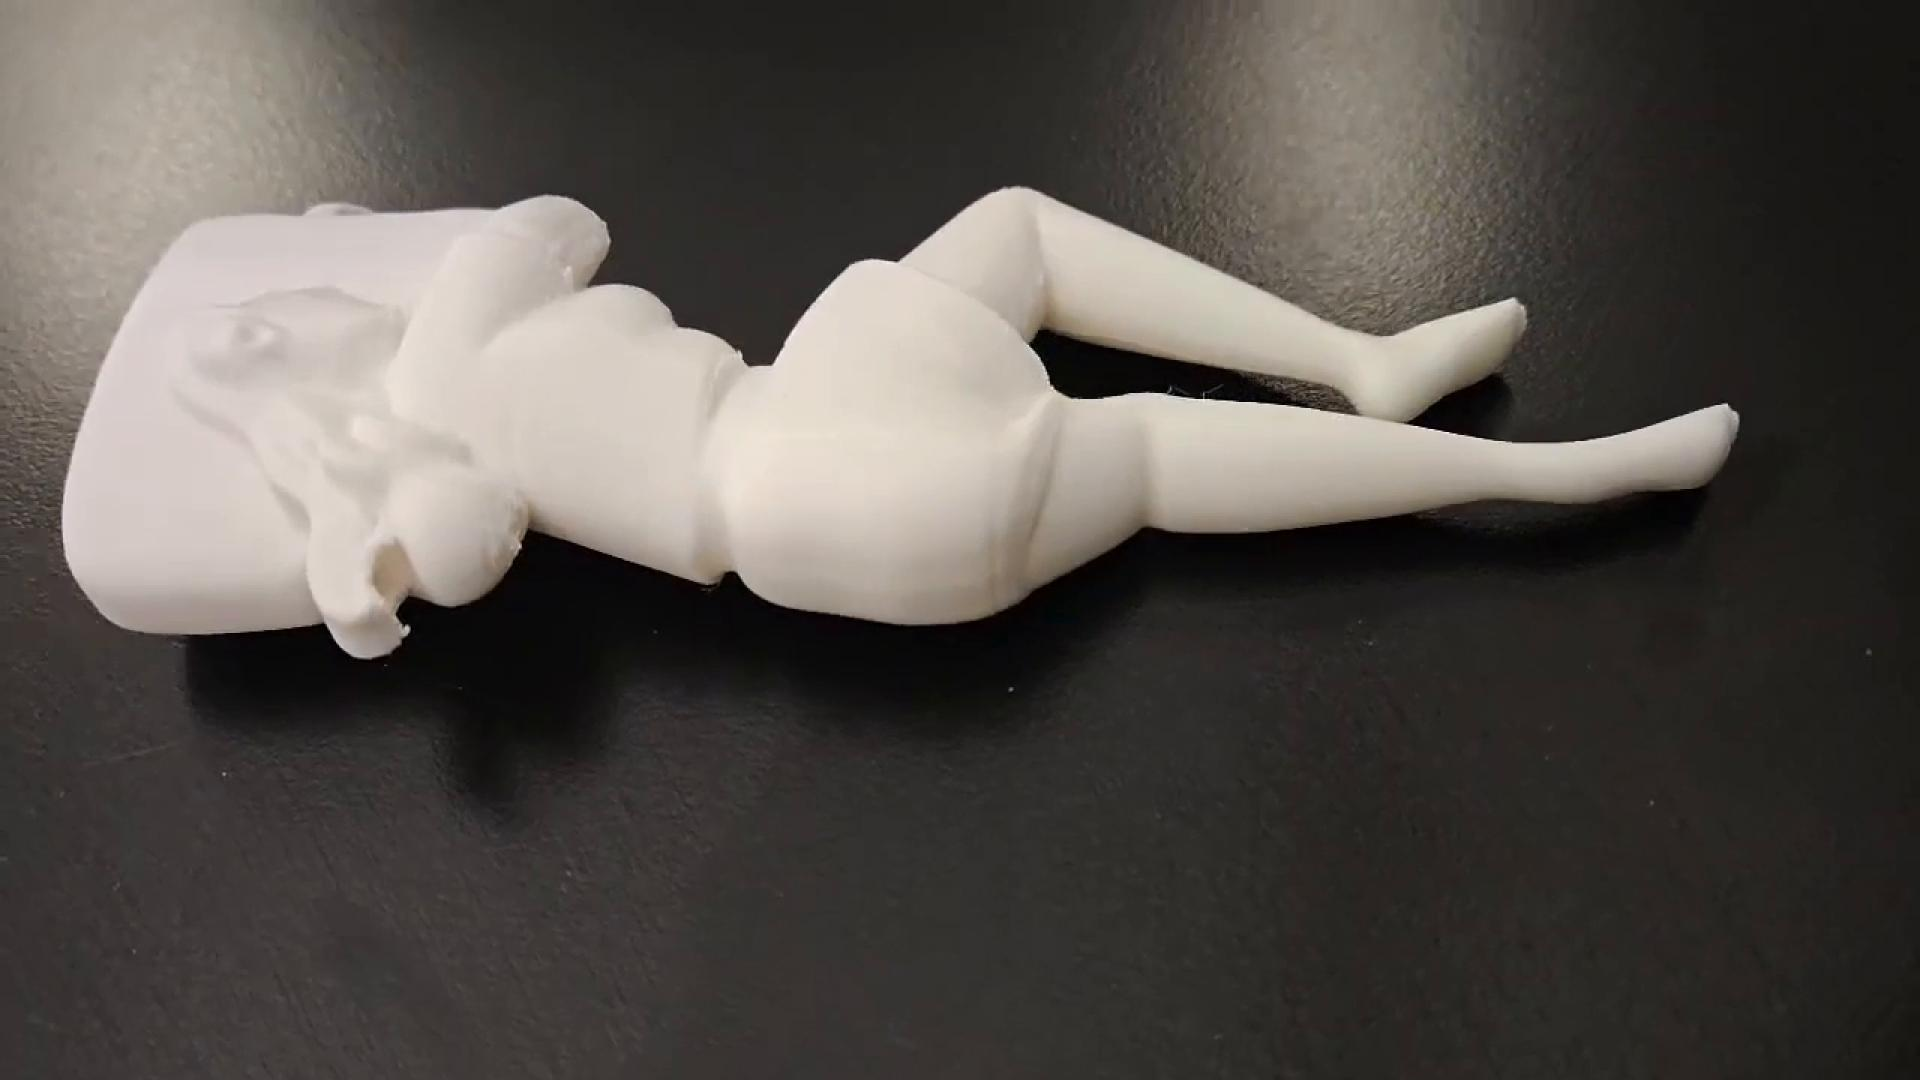Good-style: (46, 190, 1746, 661)
